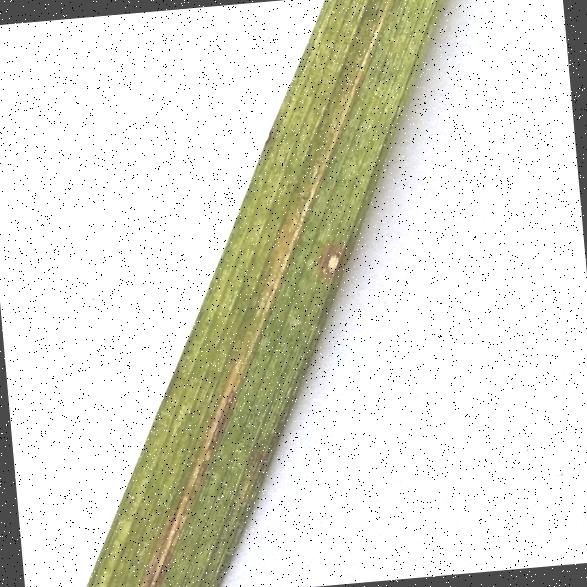Leaf_smut: (304, 224, 352, 282)
